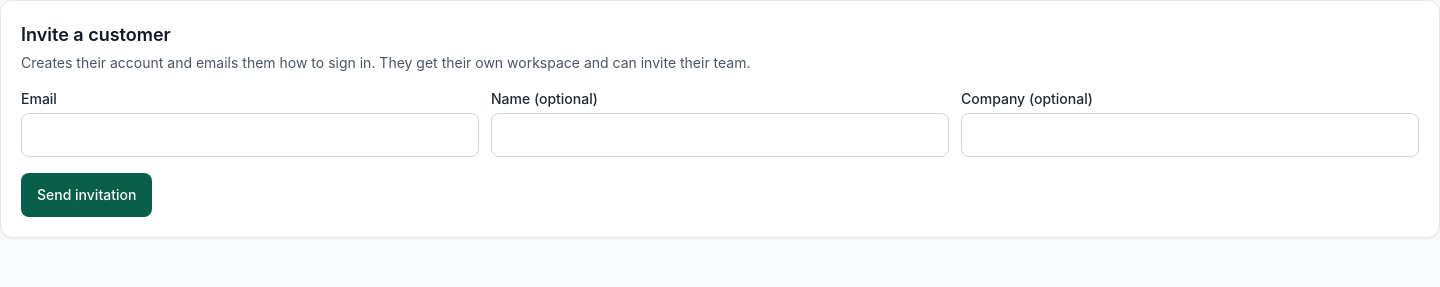
it: names the field on a conflict
Type "riley@acme.test" into the field labelled "Email".
click(250, 135); type("riley@acme.test")  # box [21,113,479,157]
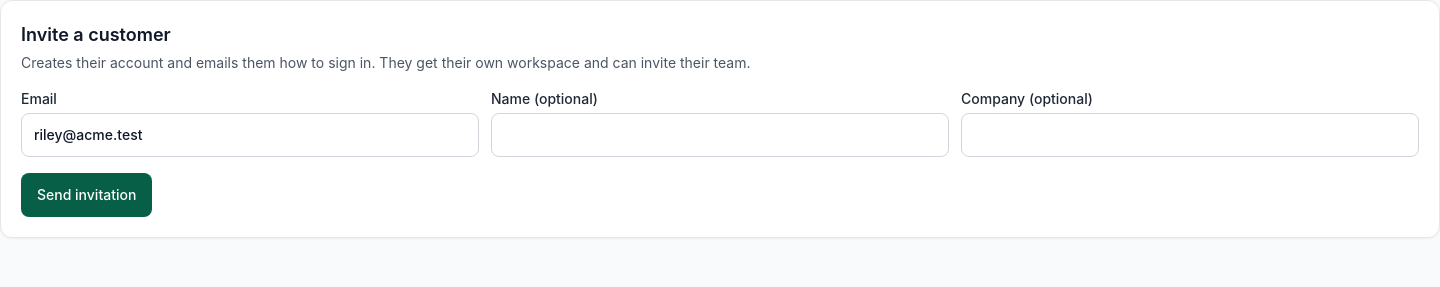
Click the button "Send invitation".
click(87, 195)  # box [21,173,152,217]
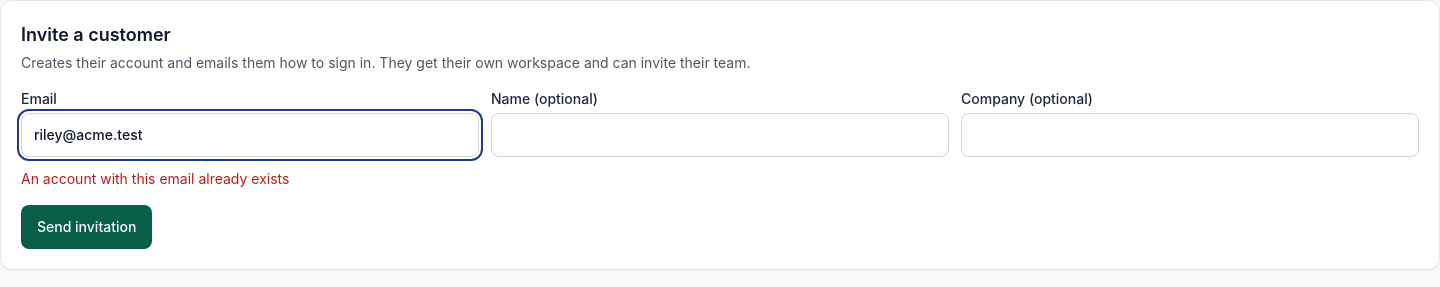
Now the message shows "already exists", box [21,170,289,187]
